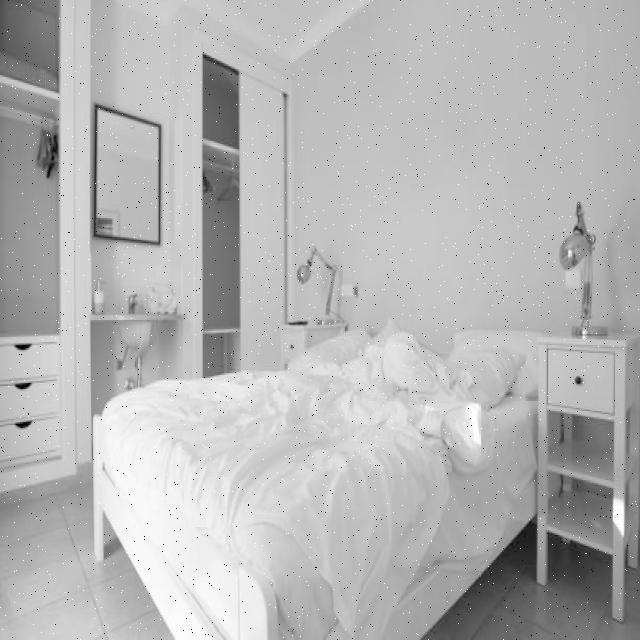bed: (127, 320, 530, 608)
